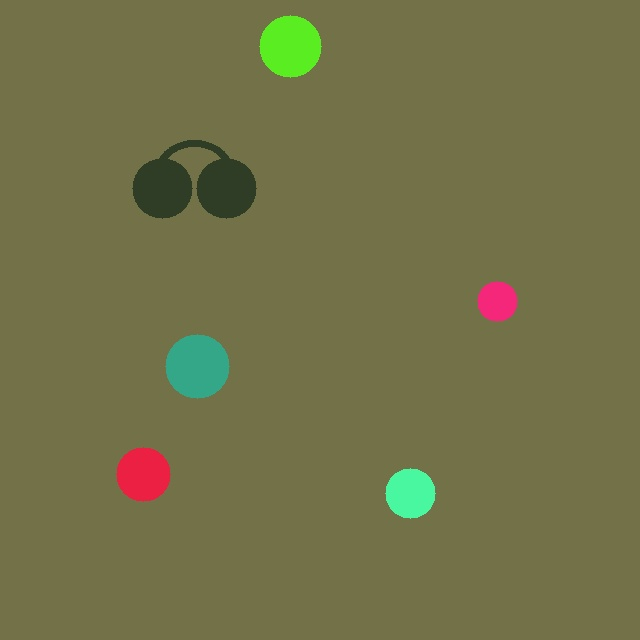over_ear: (128, 134, 260, 222)
